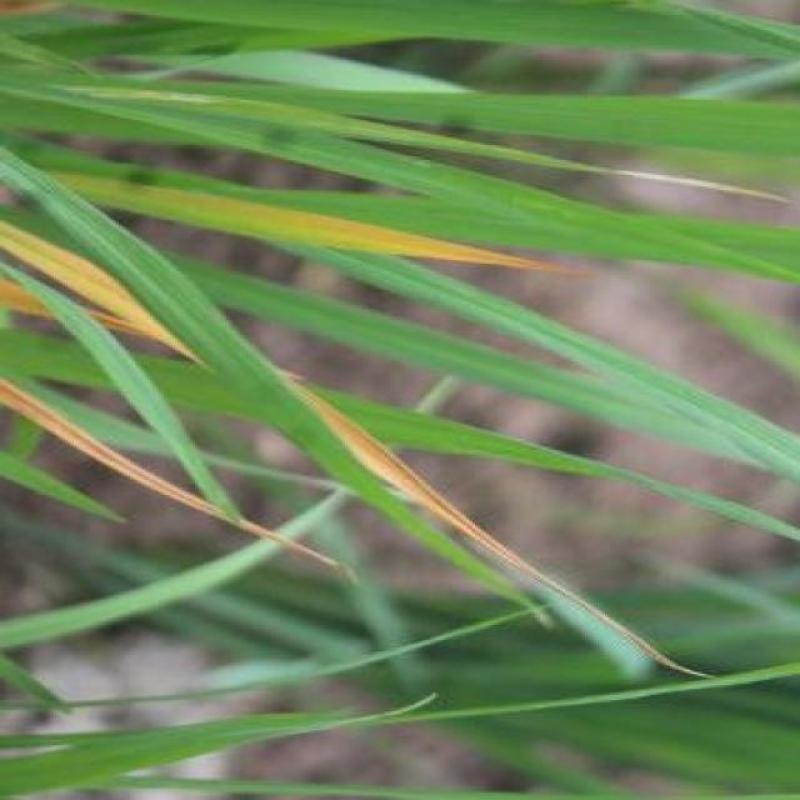Rice Tungro: (24, 418, 320, 572), (292, 212, 548, 288), (368, 445, 518, 566), (41, 249, 170, 331)
